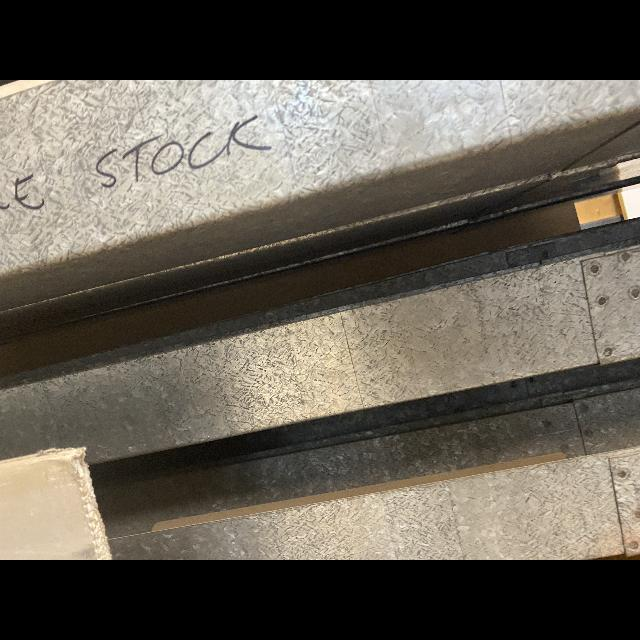Galvanized Steel: (0, 80, 640, 341), (1, 212, 640, 467), (95, 384, 640, 560), (171, 359, 636, 471)
